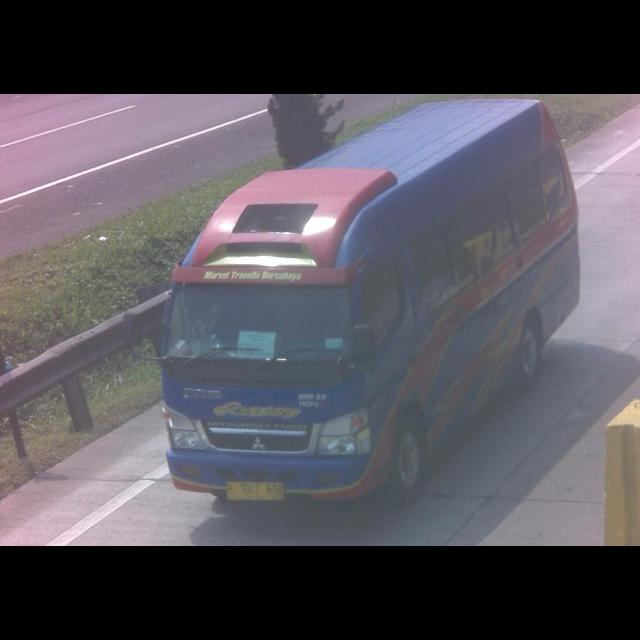plate: (224, 478, 286, 504)
